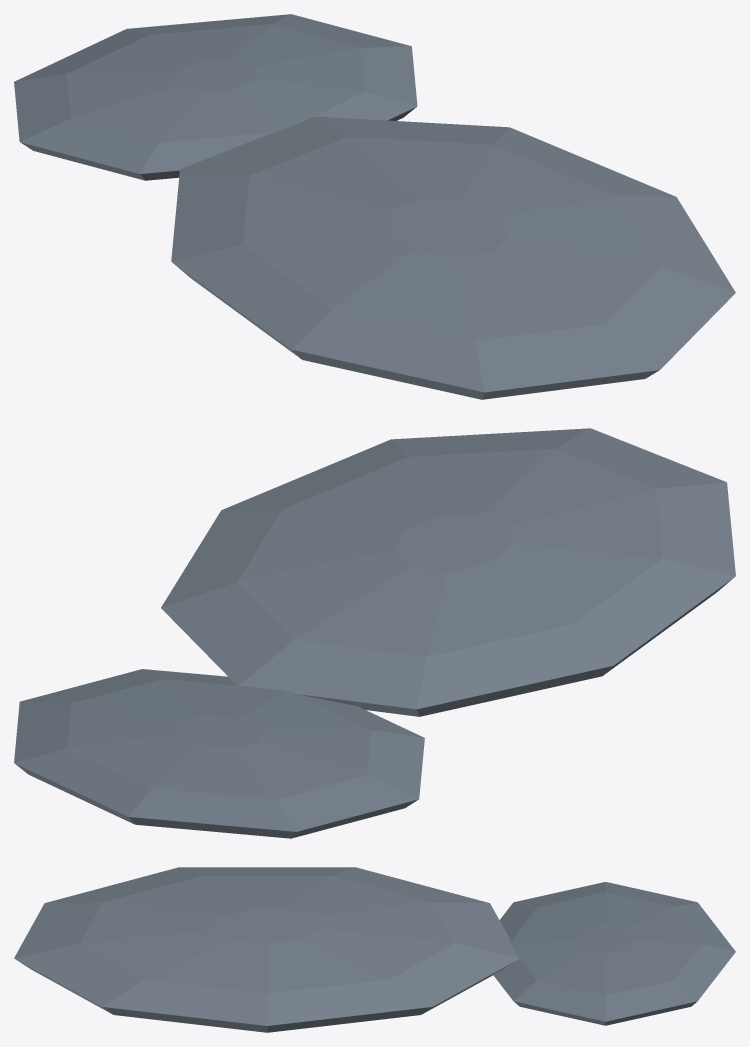
The model's file is boot_print.glb.
The picture shows the model from 3 angles, top to bottom: view 1: azimuth 30°, elevation 25°; view 2: azimuth 150°, elevation 25°; view 3: azimuth 270°, elevation 25°; orthographic projection. The views are drawn at different scales.
Visible parts, largest first — view 1: boot_print; view 2: boot_print; view 3: boot_print.
Boxes of the visible parts, bbox=[...] form: boot_print: bbox=[14, 14, 735, 399]; boot_print: bbox=[14, 428, 735, 838]; boot_print: bbox=[14, 867, 735, 1032].
Bounding box in the file's own units: 0.1067 × 0.014 × 0.2049.
